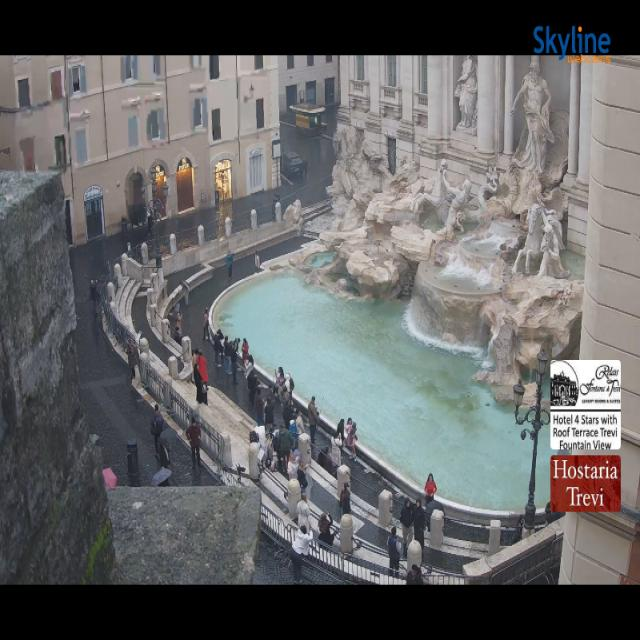person: (291, 525, 312, 583), (399, 498, 414, 554), (186, 417, 202, 467), (278, 424, 292, 475), (388, 526, 402, 577), (414, 499, 426, 549), (192, 350, 203, 404), (197, 350, 208, 403), (152, 404, 163, 456), (297, 495, 311, 531), (319, 515, 335, 545), (308, 397, 318, 444), (297, 460, 310, 495), (545, 502, 565, 524), (126, 338, 136, 381), (346, 423, 357, 461), (424, 473, 437, 504), (247, 370, 257, 408), (332, 435, 342, 472), (318, 446, 332, 472), (264, 396, 274, 432), (254, 388, 264, 424), (340, 483, 351, 515), (288, 419, 299, 449), (90, 280, 99, 316), (406, 565, 423, 584), (224, 336, 232, 375), (288, 451, 299, 479), (273, 368, 284, 396), (212, 333, 221, 367), (231, 343, 238, 384), (160, 442, 170, 468), (342, 417, 352, 443), (217, 330, 224, 367), (296, 409, 305, 437), (180, 281, 190, 306), (515, 516, 524, 542), (245, 354, 254, 379), (226, 250, 233, 281), (172, 302, 181, 325), (283, 405, 293, 424), (337, 419, 345, 442), (147, 211, 154, 235), (174, 326, 182, 347), (242, 338, 248, 365), (203, 309, 208, 341), (175, 311, 182, 331), (255, 251, 260, 272), (302, 160, 307, 181), (233, 338, 239, 352)
